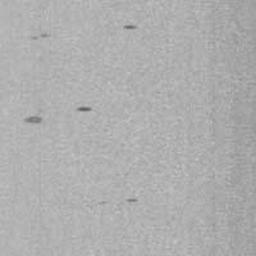Inclusion: (27, 32, 51, 42), (26, 116, 42, 125), (123, 24, 140, 31), (76, 106, 93, 113), (127, 198, 140, 205)
